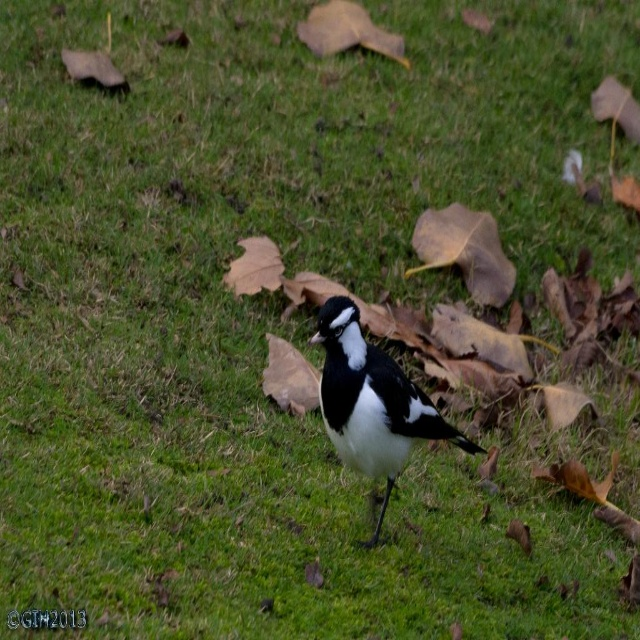Magpie: (310, 295, 489, 553)
